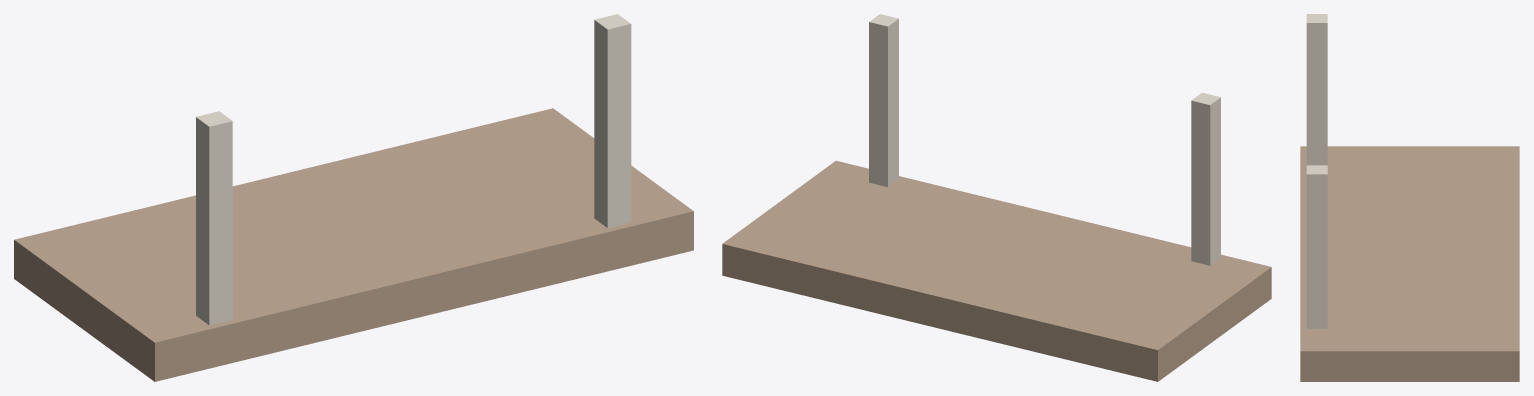
File: MOD_VERANDAH_STANDARD_TIMBER_001_LOD_GAMEPLAY.glb
The picture shows the model from 3 angles, left to right: view 1: azimuth 30°, elevation 25°; view 2: azimuth 150°, elevation 25°; view 3: azimuth 270°, elevation 25°; orthographic projection. The views are drawn at different scales.
Visible parts, largest first — view 1: MOD_VERANDAH_STANDARD_TIMBER_001_GAMEPLAY_DECK, MOD_VERANDAH_STANDARD_TIMBER_001_GAMEPLAY_POST_R, MOD_VERANDAH_STANDARD_TIMBER_001_GAMEPLAY_POST_L; view 2: MOD_VERANDAH_STANDARD_TIMBER_001_GAMEPLAY_DECK, MOD_VERANDAH_STANDARD_TIMBER_001_GAMEPLAY_POST_L, MOD_VERANDAH_STANDARD_TIMBER_001_GAMEPLAY_POST_R; view 3: MOD_VERANDAH_STANDARD_TIMBER_001_GAMEPLAY_DECK, MOD_VERANDAH_STANDARD_TIMBER_001_GAMEPLAY_POST_R, MOD_VERANDAH_STANDARD_TIMBER_001_GAMEPLAY_POST_L.
Boxes of the visible parts, x1,y1,x2,y2 form: MOD_VERANDAH_STANDARD_TIMBER_001_GAMEPLAY_DECK: [14, 108, 693, 381]; MOD_VERANDAH_STANDARD_TIMBER_001_GAMEPLAY_POST_R: [594, 14, 631, 227]; MOD_VERANDAH_STANDARD_TIMBER_001_GAMEPLAY_POST_L: [196, 111, 232, 325]; MOD_VERANDAH_STANDARD_TIMBER_001_GAMEPLAY_DECK: [722, 160, 1271, 381]; MOD_VERANDAH_STANDARD_TIMBER_001_GAMEPLAY_POST_L: [1191, 92, 1220, 265]; MOD_VERANDAH_STANDARD_TIMBER_001_GAMEPLAY_POST_R: [869, 14, 898, 186]; MOD_VERANDAH_STANDARD_TIMBER_001_GAMEPLAY_DECK: [1300, 146, 1519, 381]; MOD_VERANDAH_STANDARD_TIMBER_001_GAMEPLAY_POST_R: [1306, 165, 1327, 328]; MOD_VERANDAH_STANDARD_TIMBER_001_GAMEPLAY_POST_L: [1306, 14, 1327, 165].
Bounding box in the file's own units: 2.3 × 0.97 × 1.04.
